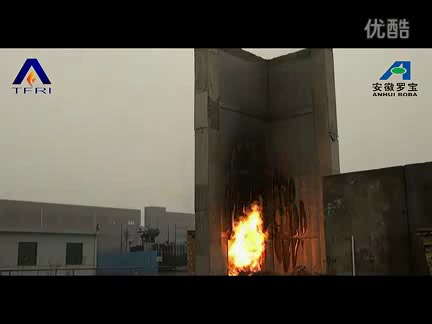fire: (225, 198, 269, 278)
